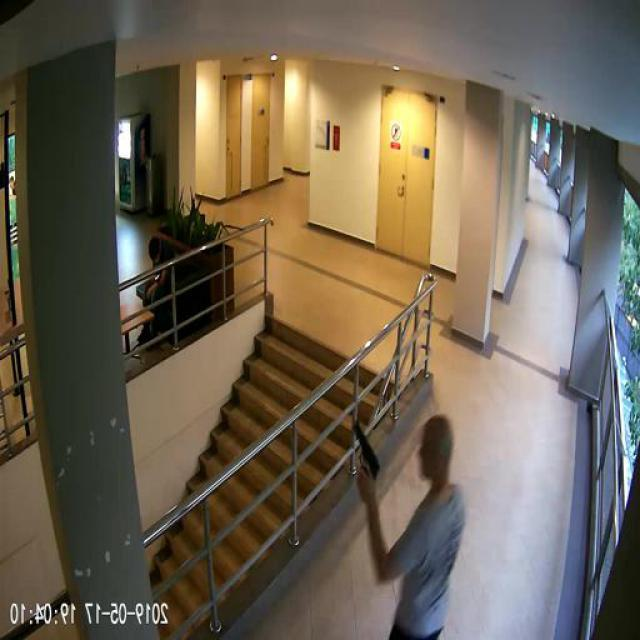Gun: (355, 420, 381, 488)
